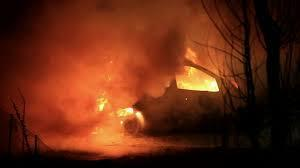fire: (96, 48, 221, 142)
